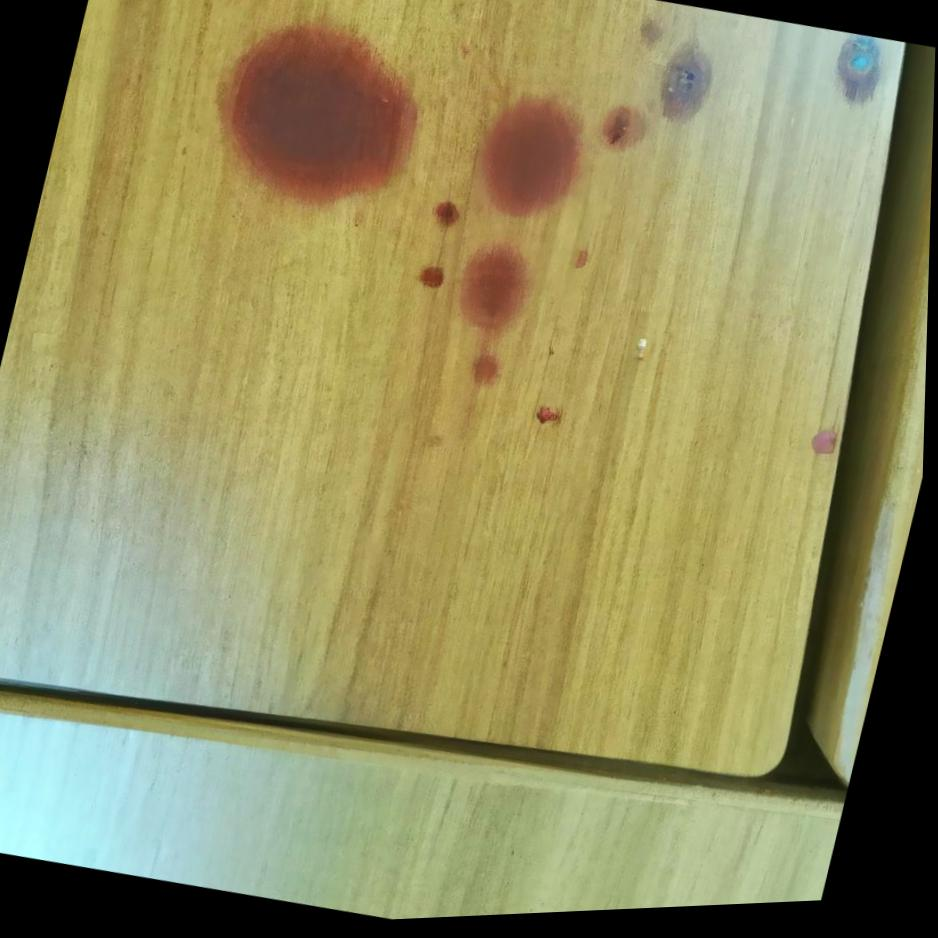Fire: (220, 26, 420, 212), (480, 101, 584, 224), (461, 247, 534, 392), (602, 111, 649, 157), (437, 205, 463, 231), (422, 270, 447, 292)
